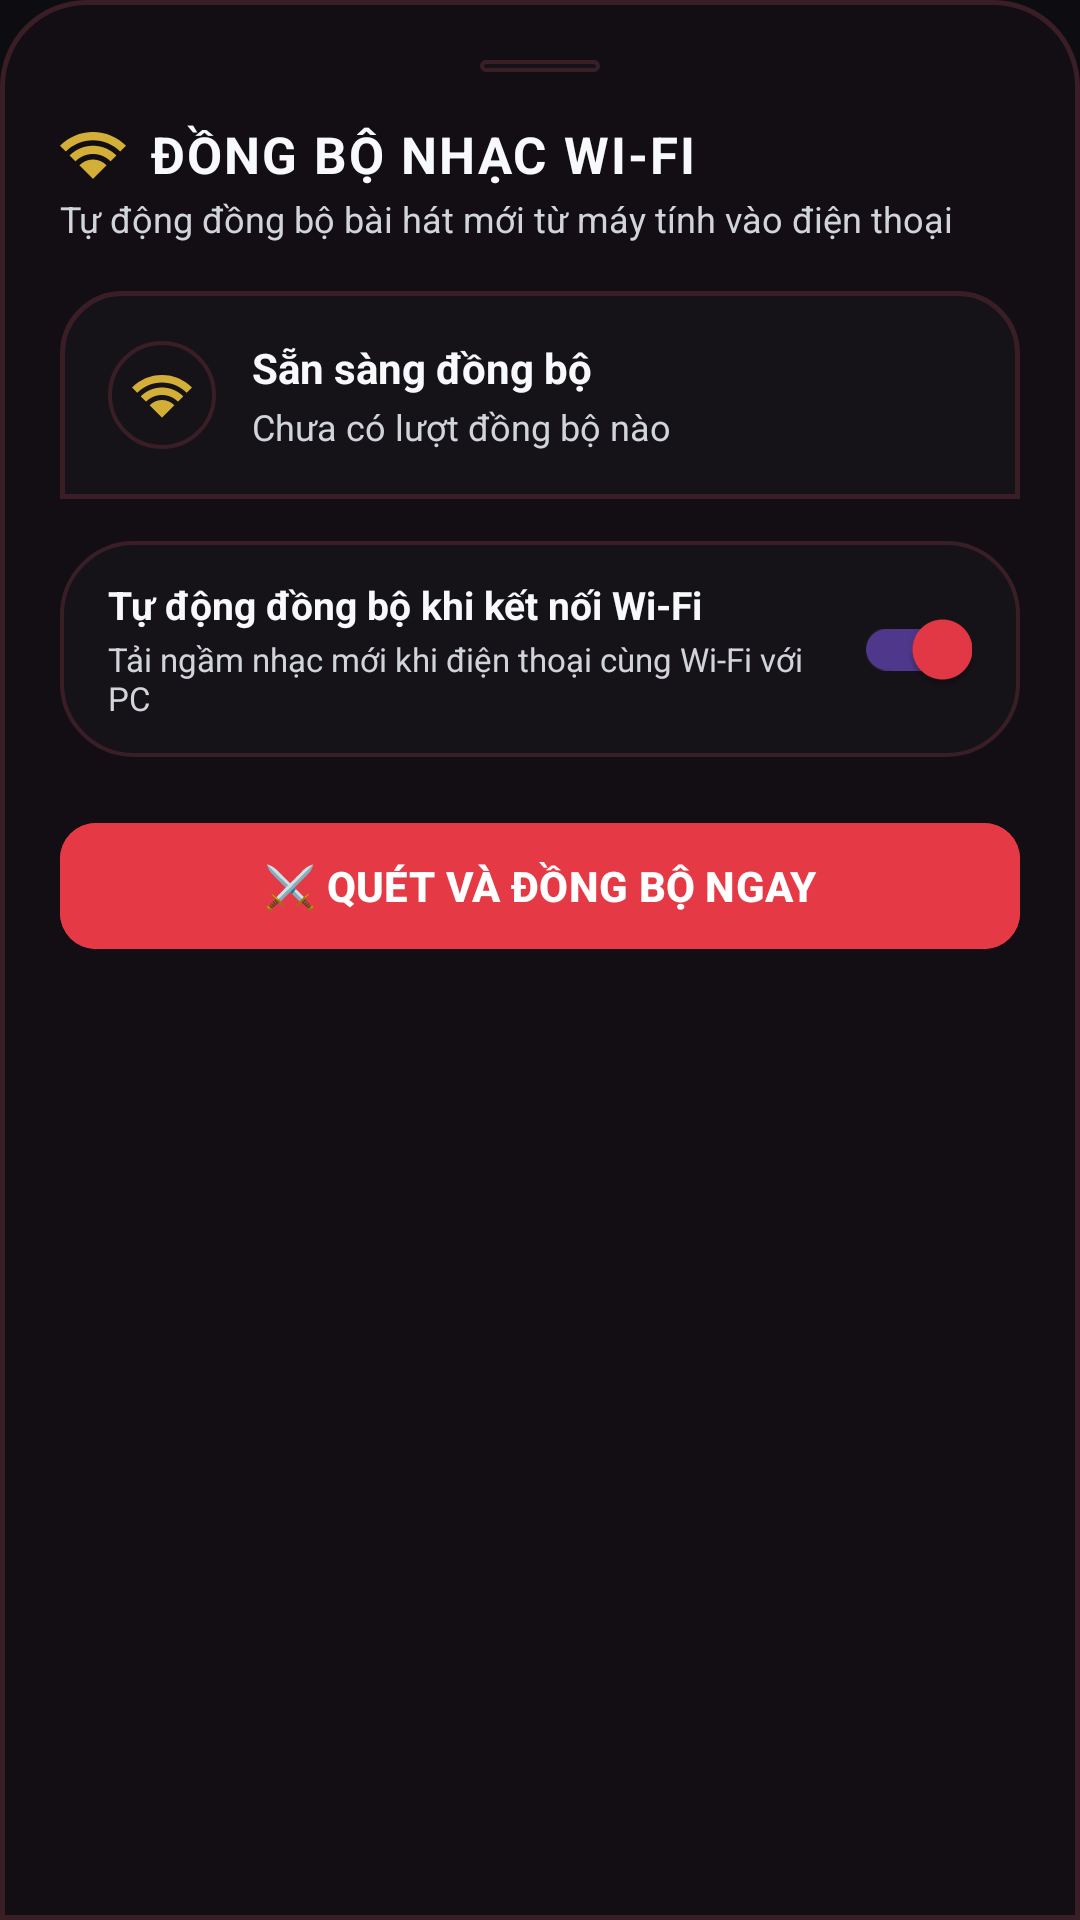

Screen size 1080px x 1920px. Icon name, then its box in pixels as (x1, y1, x2, y2):
wifi sync: (60, 132, 126, 179), (108, 341, 216, 449)
